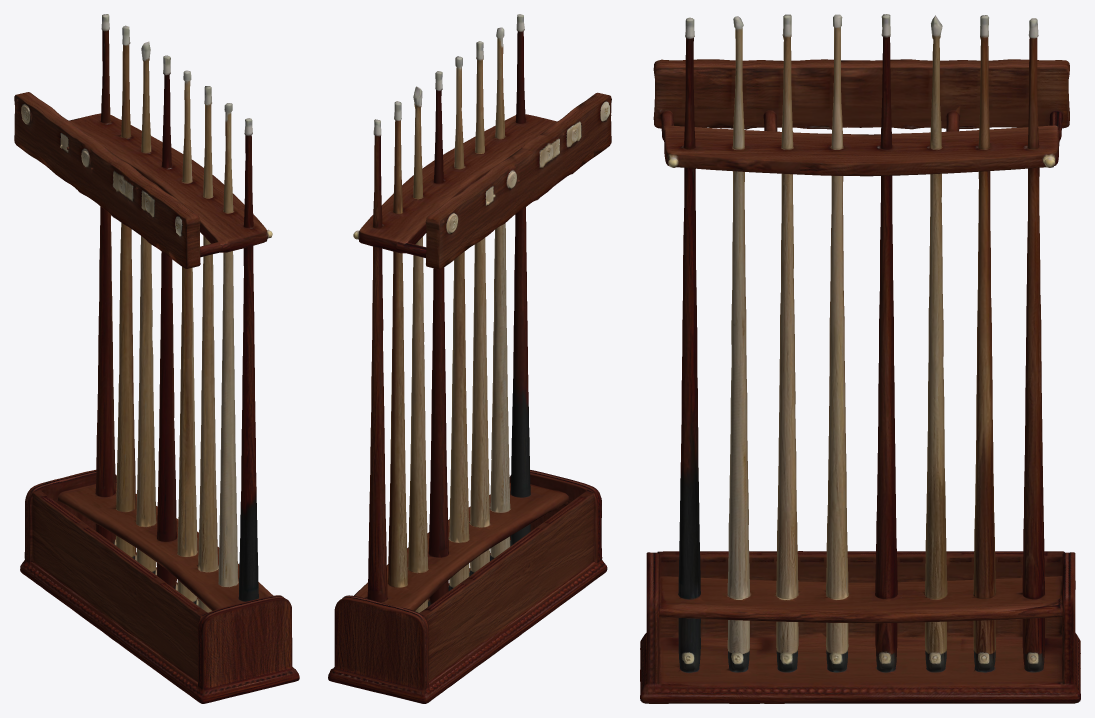
Rendered from cue-rack.glb.
3 renders of one model, left to right at view 1: azimuth 30°, elevation 25°; view 2: azimuth 150°, elevation 25°; view 3: azimuth 270°, elevation 25°, orthographic. The views are drawn at different scales.
Visible parts, largest first — view 1: tripo_node_d1e3aa8d-ceb6-4228-a5a1-24c7c9432795; view 2: tripo_node_d1e3aa8d-ceb6-4228-a5a1-24c7c9432795; view 3: tripo_node_d1e3aa8d-ceb6-4228-a5a1-24c7c9432795.
Boxes of the visible parts, left/top/right/bottom form: tripo_node_d1e3aa8d-ceb6-4228-a5a1-24c7c9432795: left=14, top=14, right=299, bottom=703; tripo_node_d1e3aa8d-ceb6-4228-a5a1-24c7c9432795: left=328, top=14, right=611, bottom=703; tripo_node_d1e3aa8d-ceb6-4228-a5a1-24c7c9432795: left=640, top=14, right=1080, bottom=703.
Size of the model in its own units: 0.2097 by 1 by 0.5956.
Materials: 1 (1 with a texture image).
